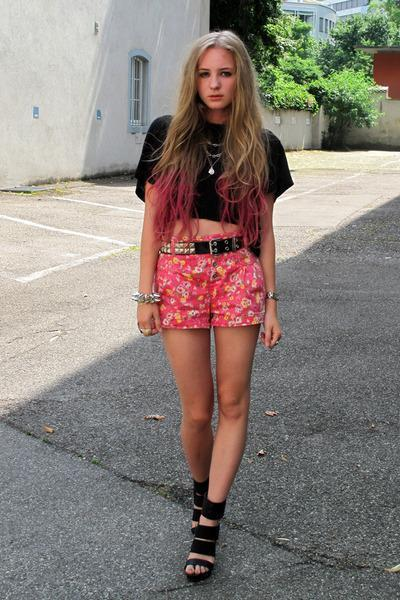shirt: (132, 118, 296, 220)
shoe: (184, 478, 225, 581)
shorts: (150, 252, 262, 330)
